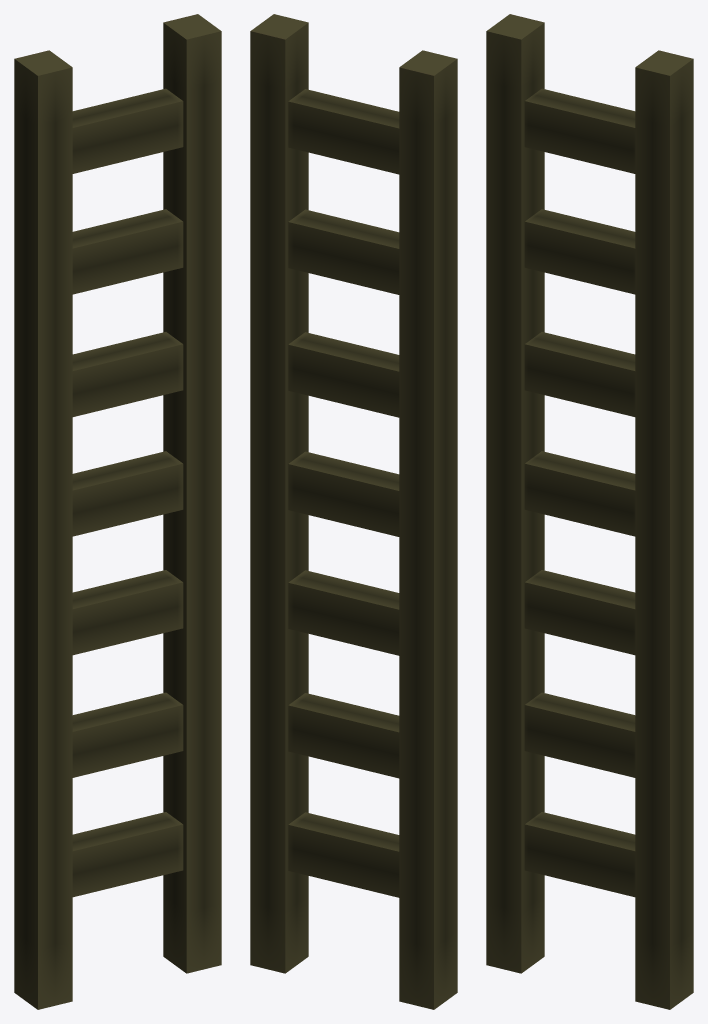
Rendered from ladder_v02.fbx.
3 renders of one model, left to right at view 1: azimuth 30°, elevation 25°; view 2: azimuth 150°, elevation 25°; view 3: azimuth 330°, elevation 25°, orthographic.
Parts seen in each view (by area): view 1: ladder_v02; view 2: ladder_v02; view 3: ladder_v02.
Part boxes in pixels (bbox=[...]): ladder_v02: bbox=[14, 14, 221, 1009]; ladder_v02: bbox=[250, 14, 457, 1009]; ladder_v02: bbox=[486, 14, 693, 1009].
Bounding box in the file's own units: 83.95 × 408 × 18.54.
